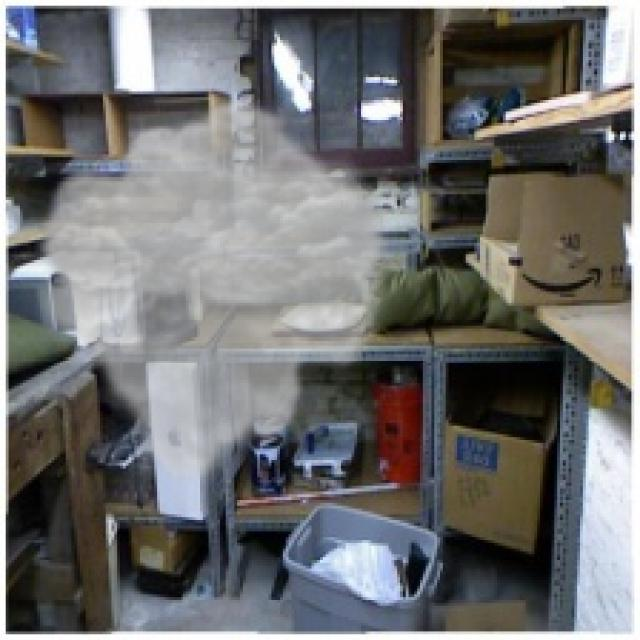smoke: (29, 94, 397, 489)
